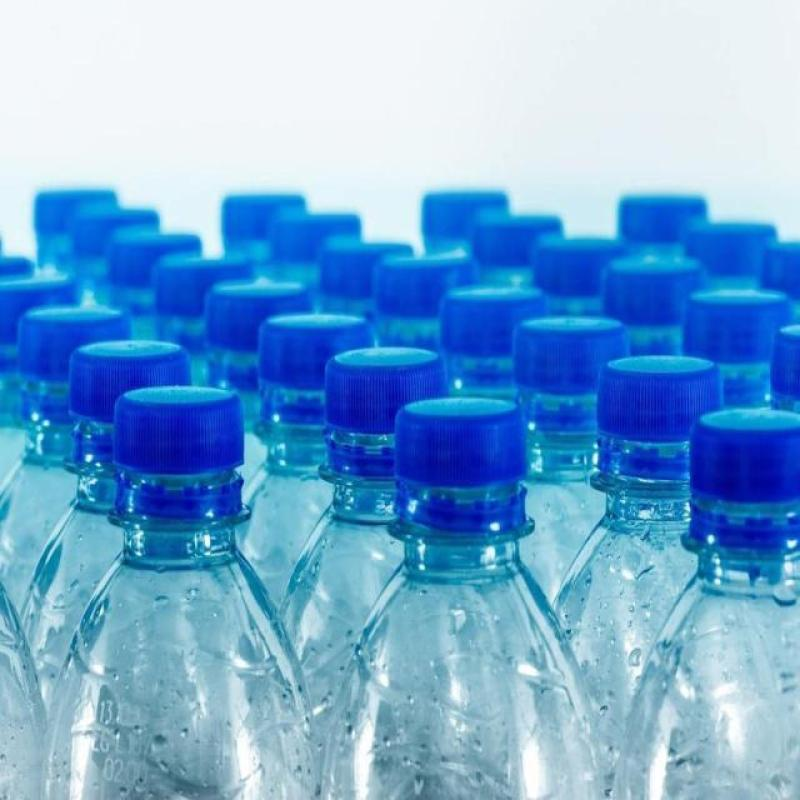botella: (320, 397, 605, 800), (45, 385, 320, 800), (612, 407, 799, 800), (550, 356, 718, 793), (18, 340, 193, 710), (279, 347, 442, 712), (241, 313, 374, 623), (510, 317, 629, 589), (15, 308, 134, 444), (99, 225, 213, 361), (369, 250, 480, 369), (59, 196, 165, 320), (596, 250, 702, 372), (204, 284, 311, 404), (441, 290, 547, 410), (685, 292, 793, 408), (152, 254, 252, 364), (469, 202, 563, 314), (528, 225, 630, 326), (0, 579, 45, 800), (313, 238, 411, 333), (410, 182, 510, 274), (680, 211, 775, 306), (30, 192, 118, 288), (0, 278, 76, 388), (608, 189, 708, 270), (263, 217, 361, 293), (208, 193, 304, 266), (770, 322, 800, 414), (759, 235, 800, 301), (0, 252, 36, 278)
